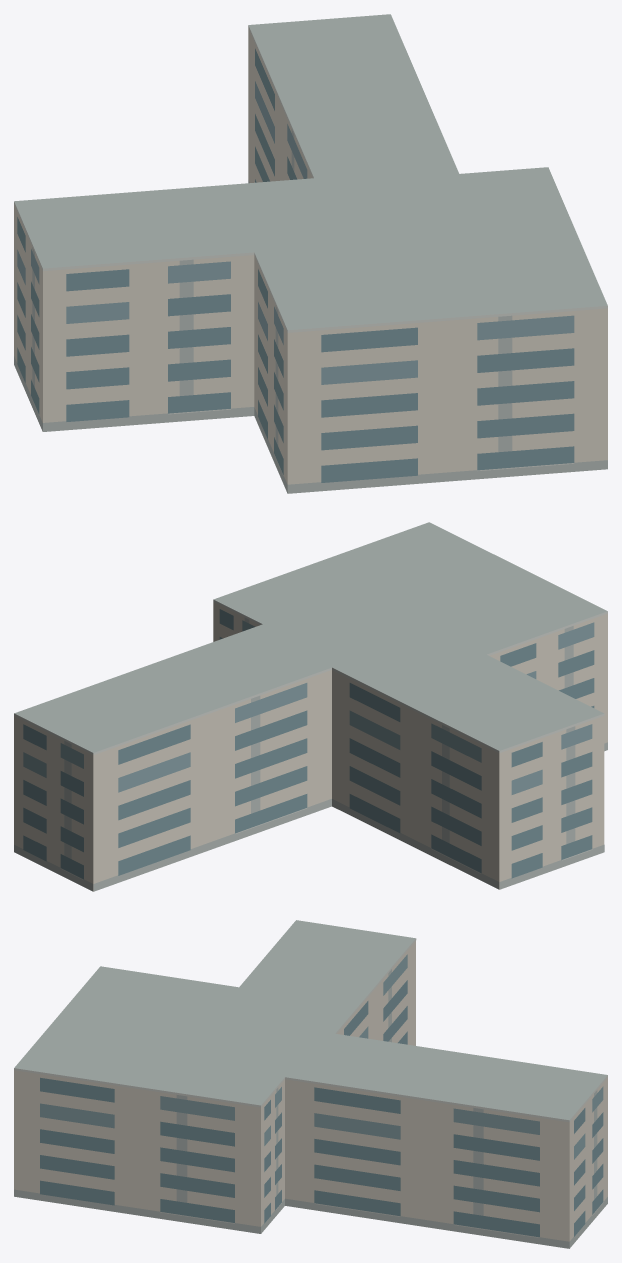
File: residential-9f8fb6d2-71bd-472c-b146-1823f40949b0.glb
The picture shows the model from 3 angles, top to bottom: view 1: azimuth 30°, elevation 25°; view 2: azimuth 150°, elevation 25°; view 3: azimuth 270°, elevation 25°; orthographic projection. The views are drawn at different scales.
Parts seen in each view (by area): view 1: residential-9f8fb6d2-71bd-472c-b146-1823f40949b0.tmp; view 2: residential-9f8fb6d2-71bd-472c-b146-1823f40949b0.tmp; view 3: residential-9f8fb6d2-71bd-472c-b146-1823f40949b0.tmp.
Part boxes in pixels (<box>): residential-9f8fb6d2-71bd-472c-b146-1823f40949b0.tmp: <box>14,14,607,493</box>; residential-9f8fb6d2-71bd-472c-b146-1823f40949b0.tmp: <box>14,522,607,891</box>; residential-9f8fb6d2-71bd-472c-b146-1823f40949b0.tmp: <box>14,920,607,1248</box>.
Bounding box in the file's own units: 50.93 × 15.25 × 63.84.
